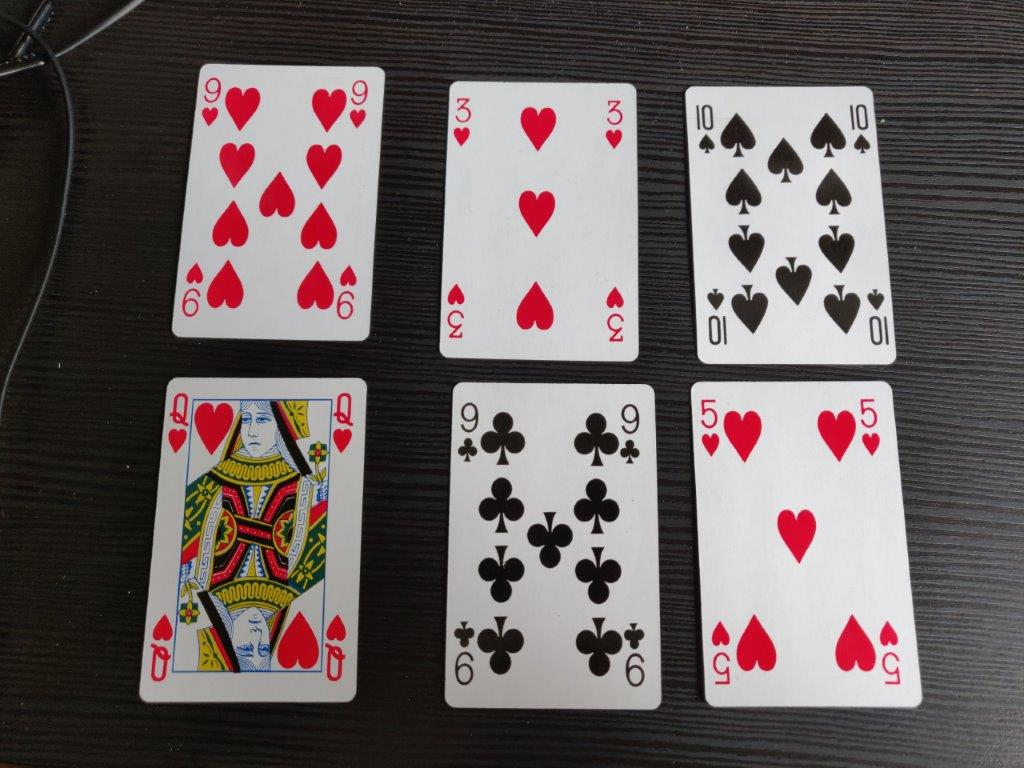10S: (843, 102, 875, 158), (691, 99, 719, 157)
3H: (601, 97, 626, 151), (450, 94, 474, 149)
5H: (853, 393, 884, 460), (697, 395, 724, 458)
9C: (615, 400, 644, 466), (457, 398, 481, 465)
9H: (344, 77, 371, 131), (200, 75, 222, 128)
QH: (327, 388, 354, 459), (164, 388, 190, 454)
